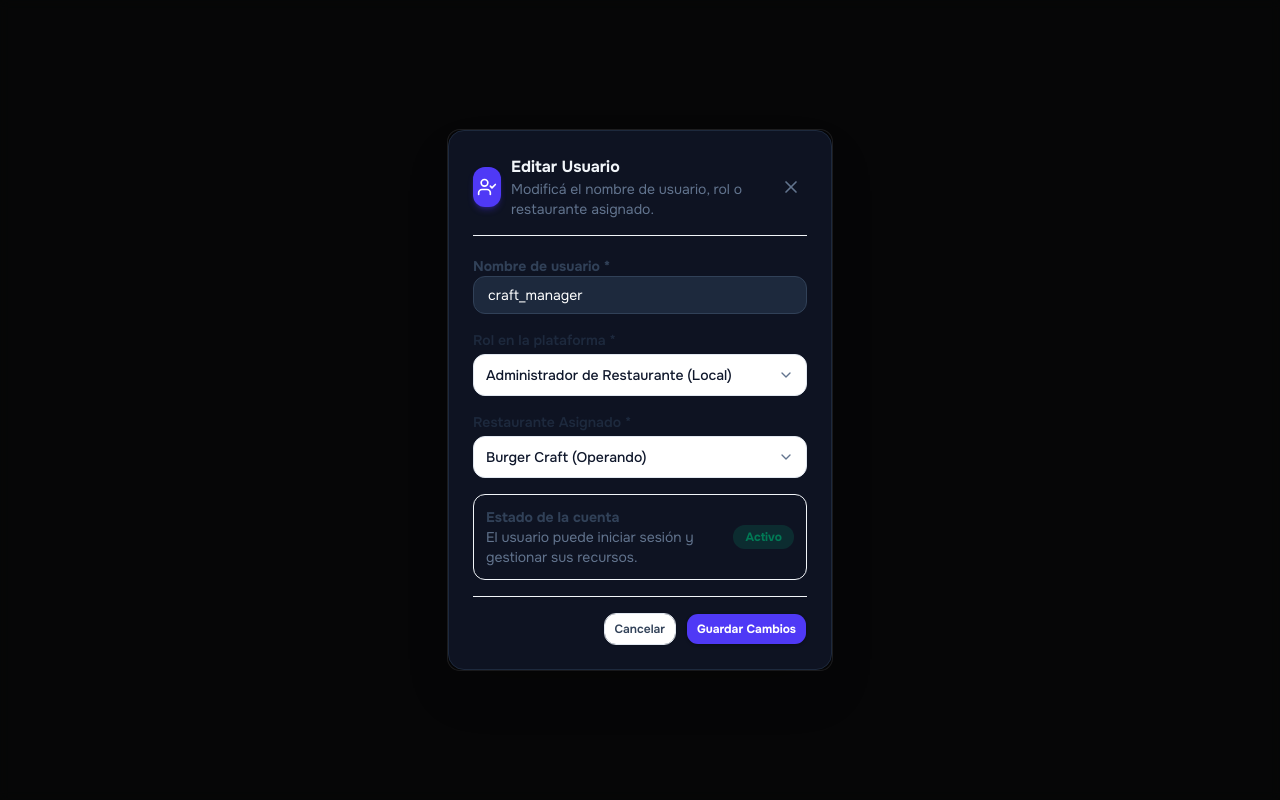
it: EditUserModal (TDD) › distinguishes own account self-demotion from last active super admin demotion (Defect 5)
Click the button "Guardar Cambios" at (746, 629), box [686,613,807,645]
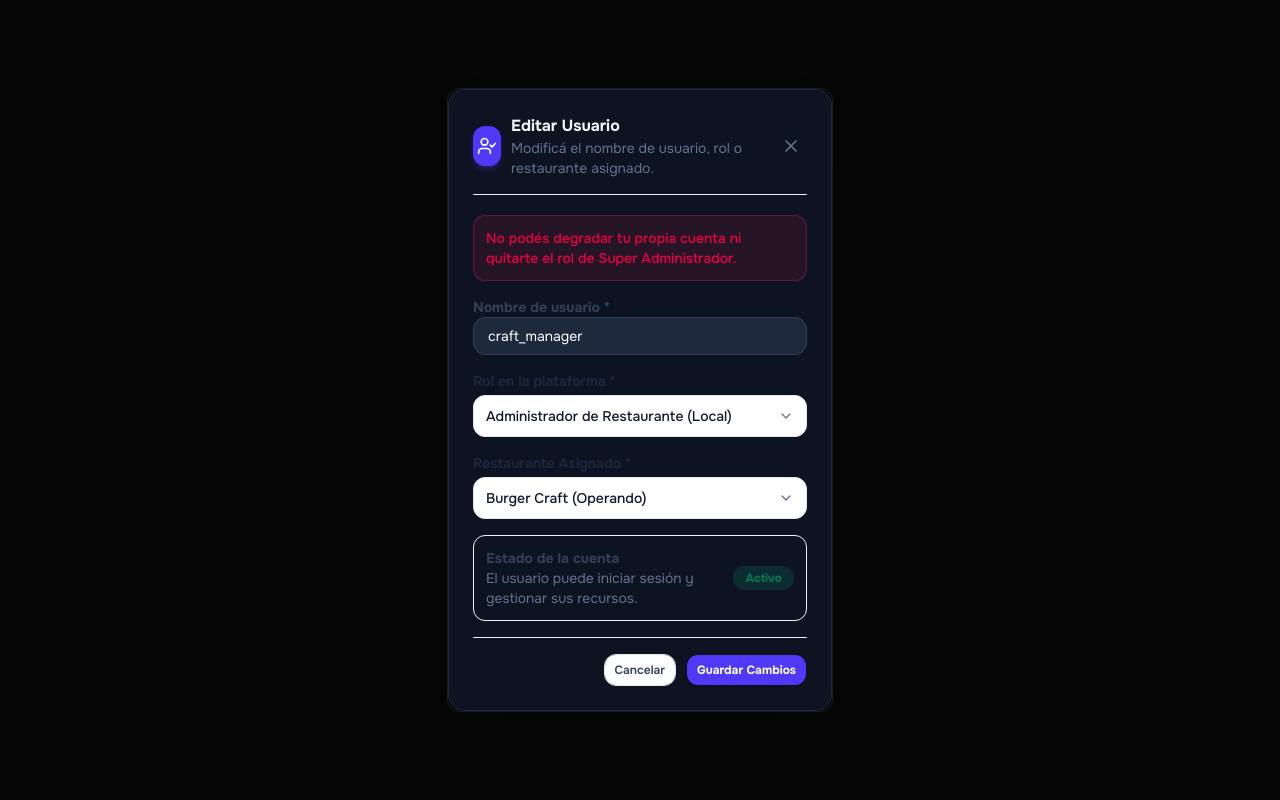
Check: the text "último Super Administrador" is not shown
Check: the text "No podés degradar tu propia cuenta ni quitarte el rol de Super Administrador." is shown, box [473,215,807,281]
Click the button "Guardar Cambios" at (746, 670), box [686,654,807,686]
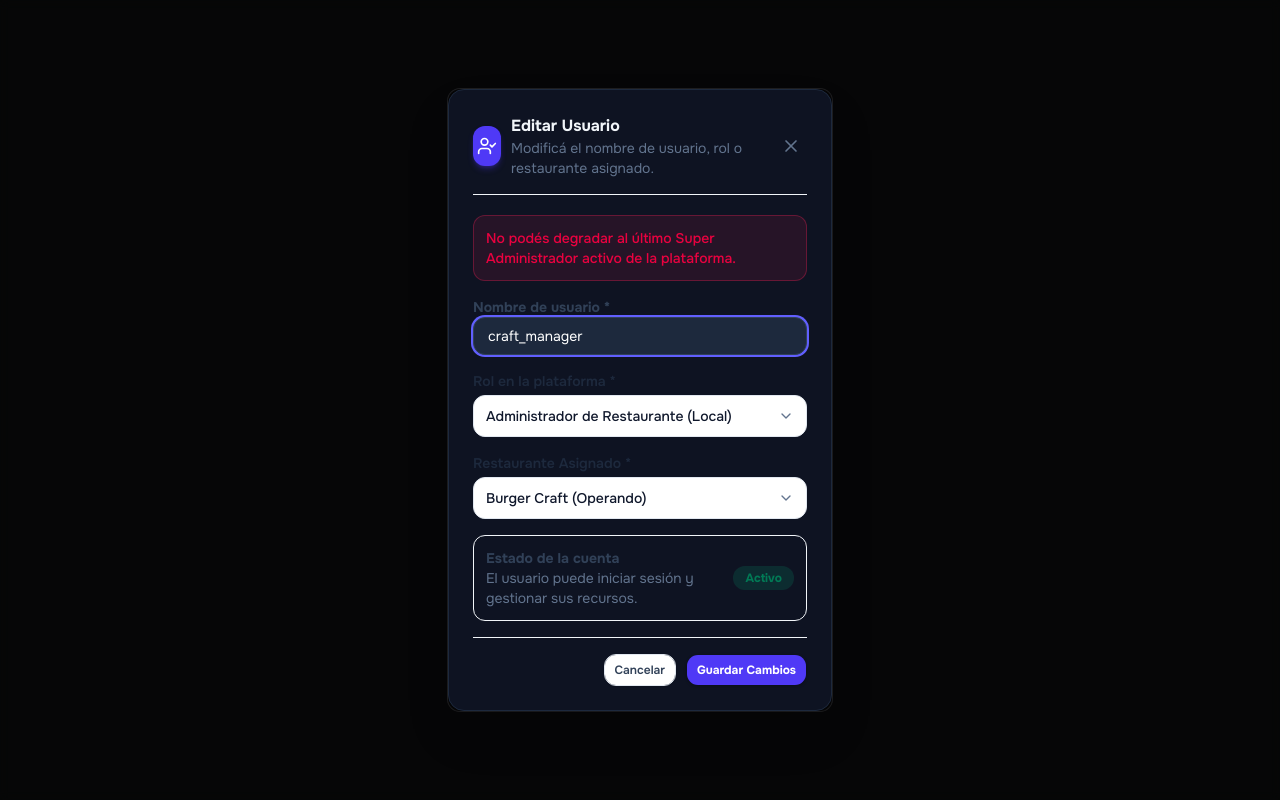
Check: the text "No podés degradar al último Super Administrador activo de la plataforma." is shown, box [473,215,807,281]
